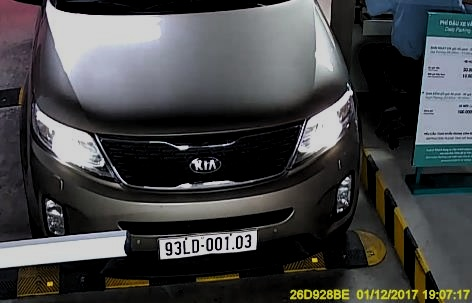plate: (156, 231, 263, 259)
